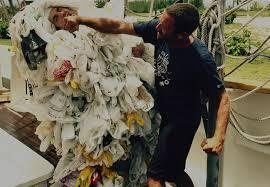Plastic bag: (10, 46, 148, 174)
